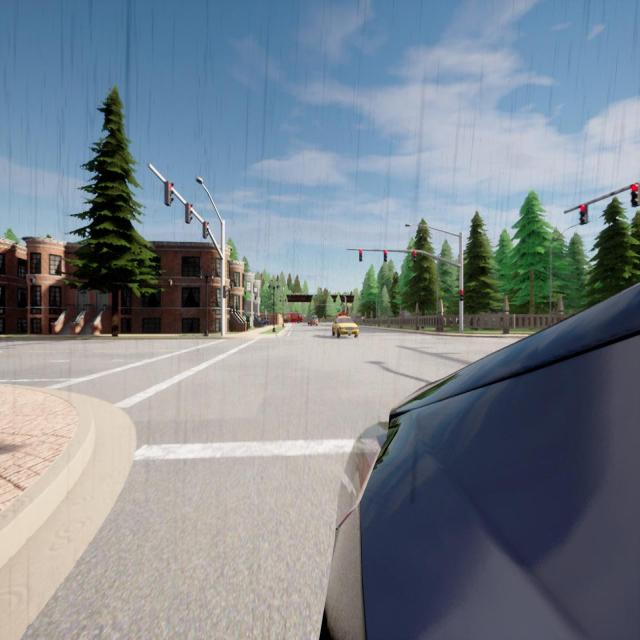Vehicle: (323, 284, 639, 637), (333, 317, 358, 338), (284, 312, 303, 324), (310, 316, 318, 326)
traffic_light: (164, 181, 173, 206), (632, 184, 640, 205), (185, 202, 192, 224), (203, 221, 209, 239), (581, 205, 587, 222), (459, 290, 464, 300), (223, 286, 227, 298), (384, 250, 387, 262), (413, 251, 416, 262), (359, 250, 362, 261)
